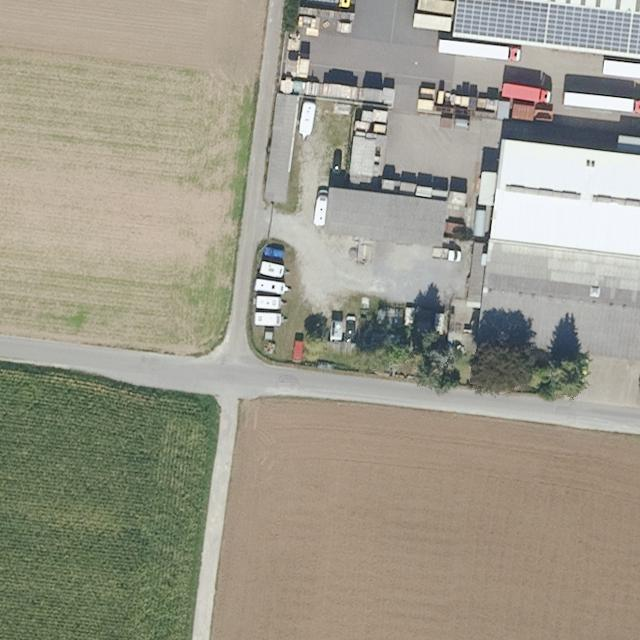PV: (452, 0, 638, 58)
